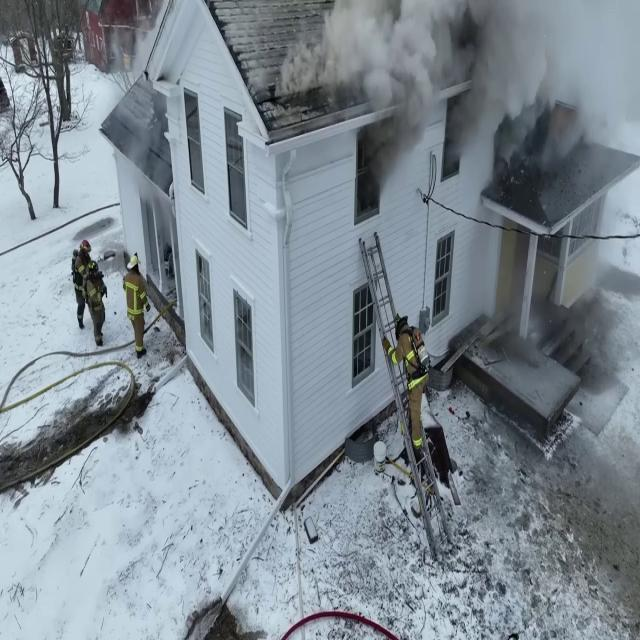Smoke: (262, 0, 516, 116)
